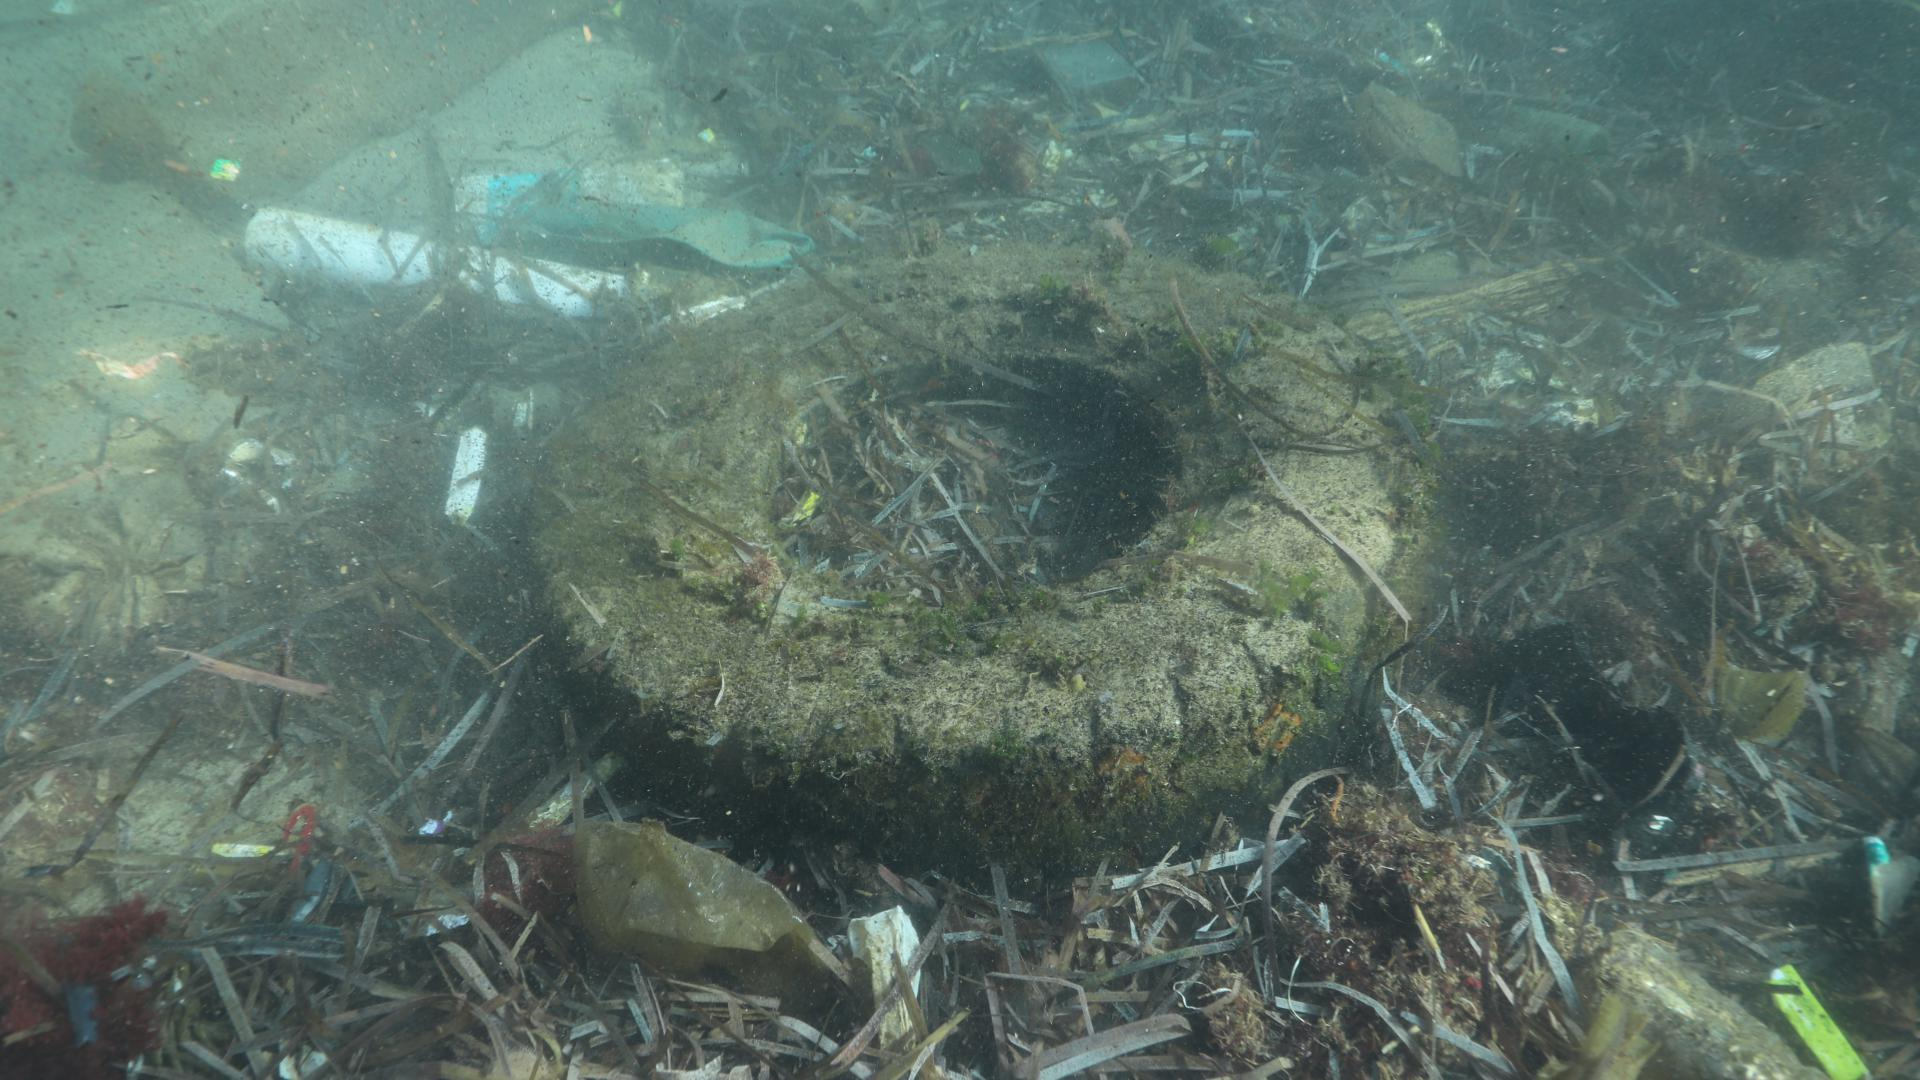tire: (521, 241, 1439, 877)
